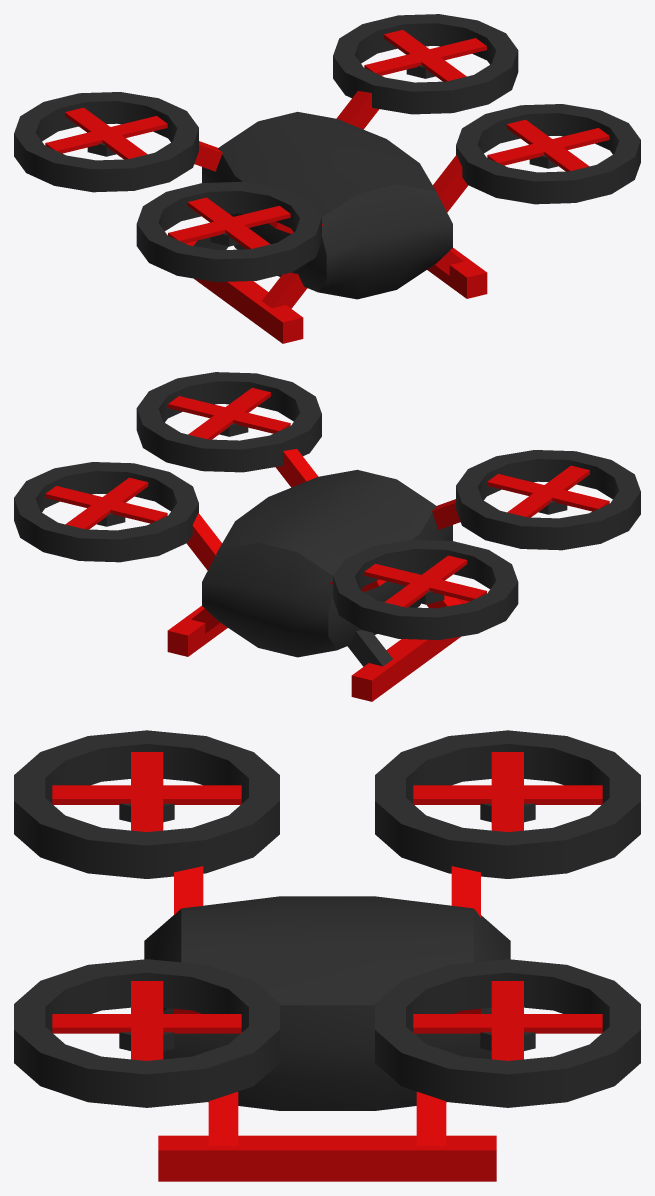
Rendered from Proto_Drone.fbx.
3 renders of one model, top to bottom at view 1: azimuth 30°, elevation 25°; view 2: azimuth 150°, elevation 25°; view 3: azimuth 270°, elevation 25°, orthographic. The views are drawn at different scales.
Parts seen in each view (by area): view 1: Drone; view 2: Drone; view 3: Drone.
Boxes of the visible parts, x1,y1,x2,y2 form: Drone: (14,14,640,343); Drone: (14,372,640,701); Drone: (14,730,640,1181).
Bounding box in the file's own units: 23.46 × 6.55 × 18.07.
